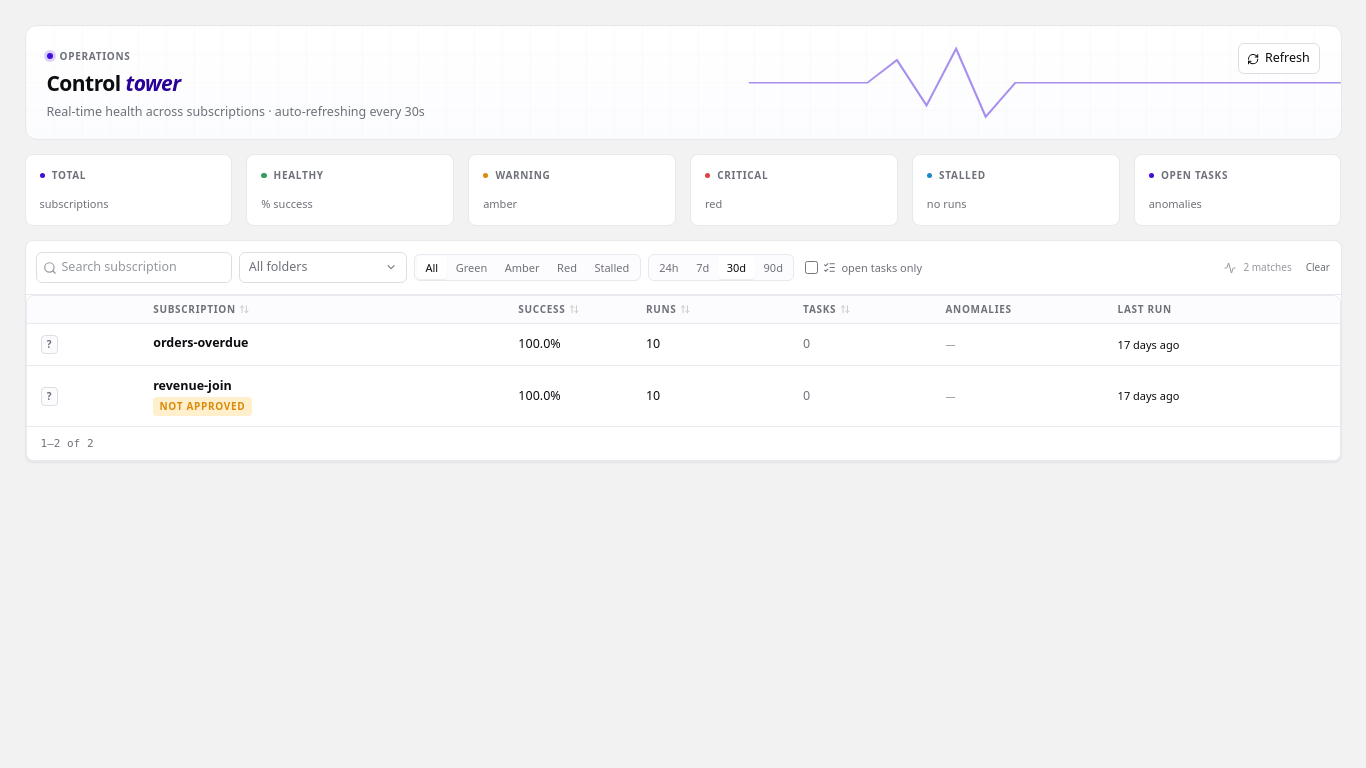
Test: ControlTowerPage › flags a subscription whose last run was skipped because its query change is not approved
expect the text "Not approved" is shown once: met, box [153,397,252,416]
Click the text "revenue-join".
click(192, 385)  # box [153,377,232,394]
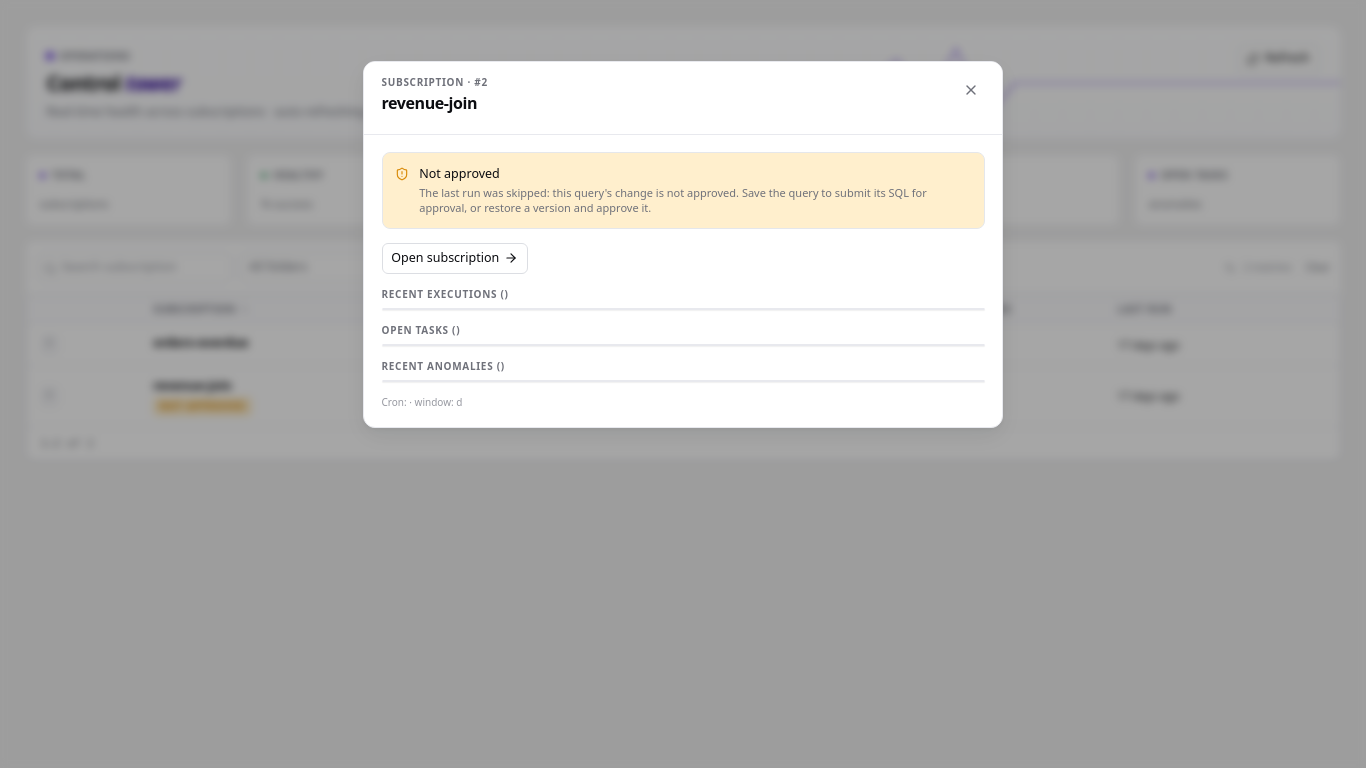
expect the text "this query's change is not approved" is shown: met, box [419,185,927,215]
